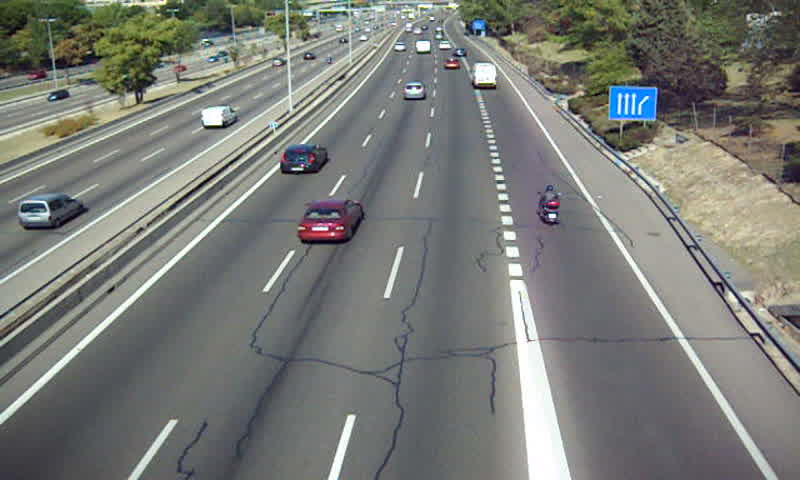car: (296, 198, 363, 242), (280, 143, 328, 173), (401, 81, 425, 101), (441, 58, 461, 72), (438, 39, 453, 51), (453, 47, 466, 57), (392, 42, 405, 52)
motorcycle: (536, 184, 561, 226)
van: (470, 63, 498, 89), (414, 40, 429, 54)
